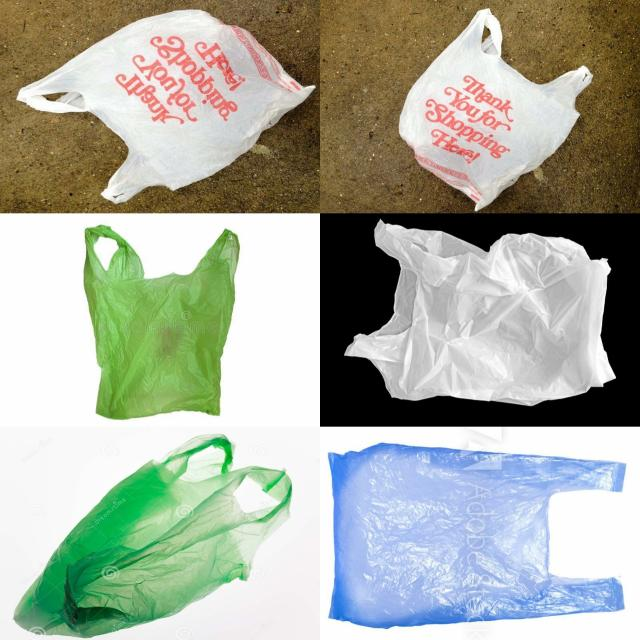Single-layer Plastic: (18, 10, 314, 202), (14, 435, 291, 638), (329, 444, 625, 628), (345, 221, 614, 405), (399, 9, 592, 209), (84, 225, 239, 419)
